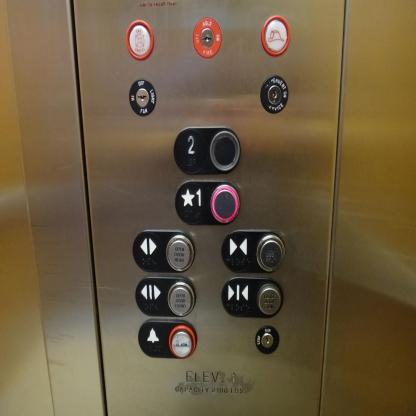2: (171, 125, 244, 176)
alarm: (135, 317, 199, 360)
close: (219, 228, 287, 274), (219, 276, 286, 320)
keyhole: (192, 15, 224, 60), (258, 72, 290, 116), (127, 76, 158, 119), (253, 323, 281, 356)
open: (129, 228, 196, 274), (132, 274, 198, 318)
s1: (172, 176, 244, 229)
unknown: (124, 18, 156, 63), (260, 13, 292, 58)
